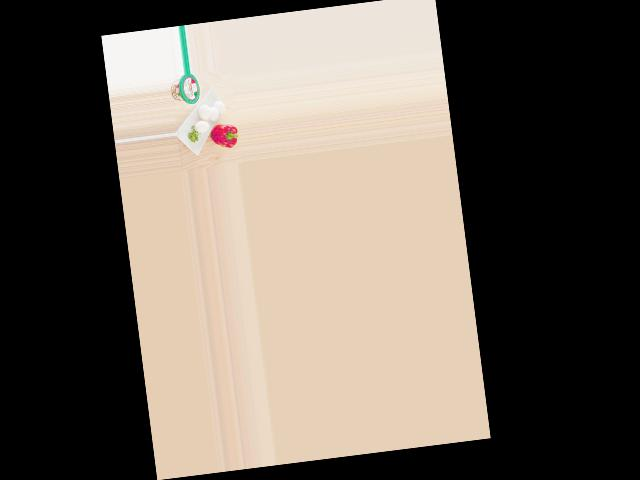bell_pepper: (209, 118, 239, 151)
